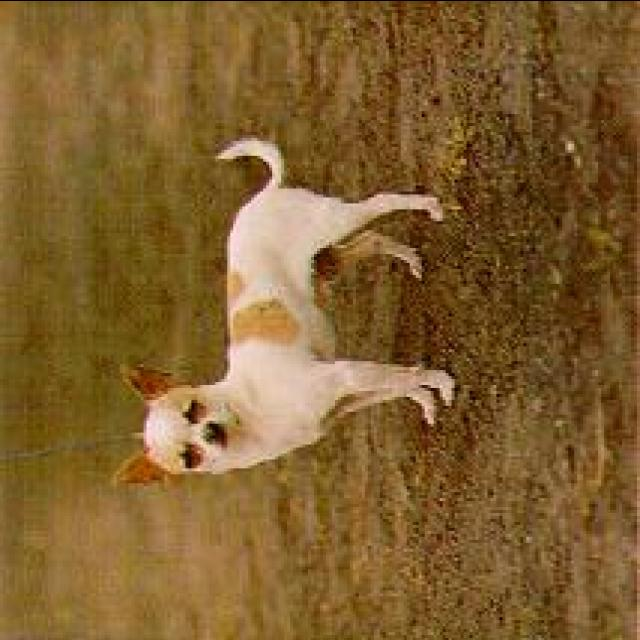chihuahua: (104, 131, 460, 494)
